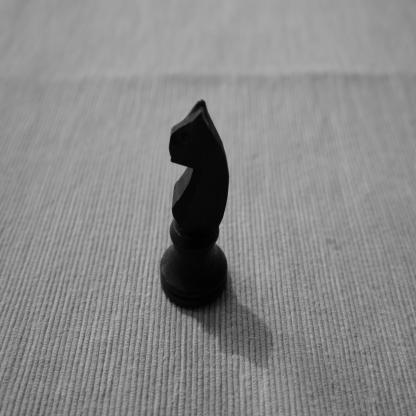black-knight: (159, 98, 230, 312)
